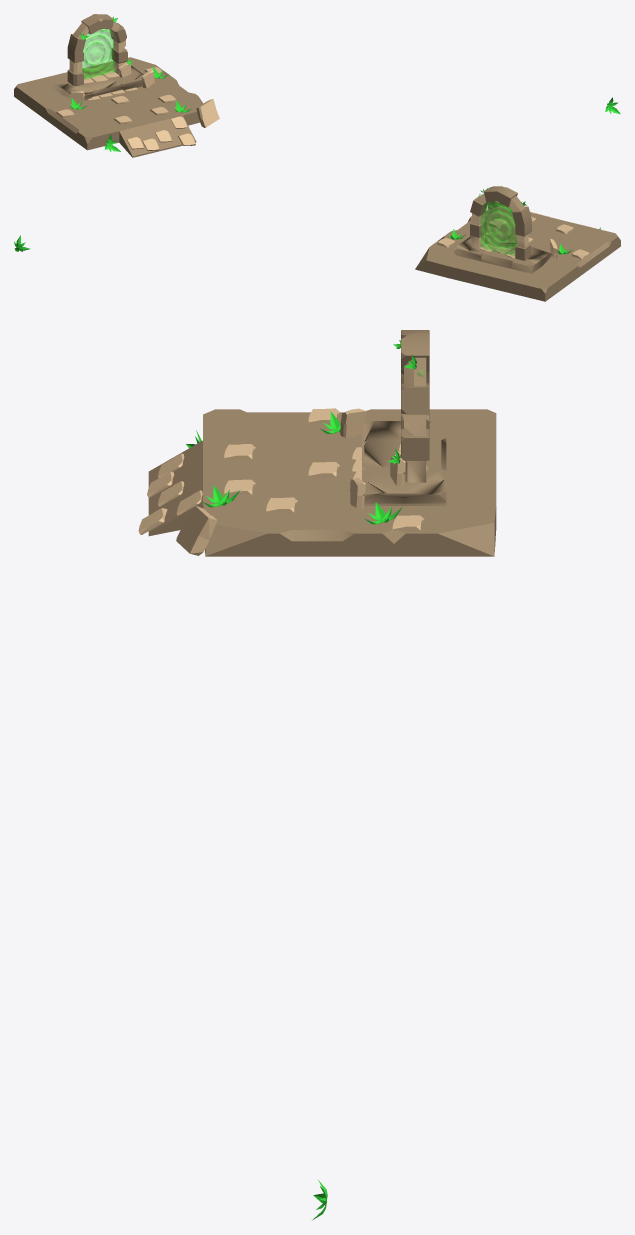
Rendered from portal_with_lights.glb.
3 renders of one model, top to bottom at view 1: azimuth 30°, elevation 25°; view 2: azimuth 150°, elevation 25°; view 3: azimuth 270°, elevation 25°, orthographic. The views are drawn at different scales.
Parts seen in each view (by area): view 1: Platform, BrickOut, Floor, Portal, PortalMain, Cube.018; view 2: Platform, Portal, Floor, BrickOut, PortalMain; view 3: Platform, Floor, BrickOut, PortalMain, Cube.018.
Part boxes in pixels (x1,y1,x2,y2): Platform: (14,57,203,157); BrickOut: (67,14,127,85); Floor: (52,65,143,100); Portal: (78,21,115,79); PortalMain: (69,22,125,74); Cube.018: (196,99,219,127); Platform: (415,206,620,301); Portal: (478,194,516,256); Floor: (454,235,553,273); BrickOut: (470,186,531,260); PortalMain: (471,193,528,248); Platform: (148,409,496,556); Floor: (362,421,446,505); BrickOut: (401,330,429,460); PortalMain: (404,357,426,482); Cube.018: (176,506,217,555).
Bounding box in the file's own units: 30.74 × 10.49 × 8.5.
